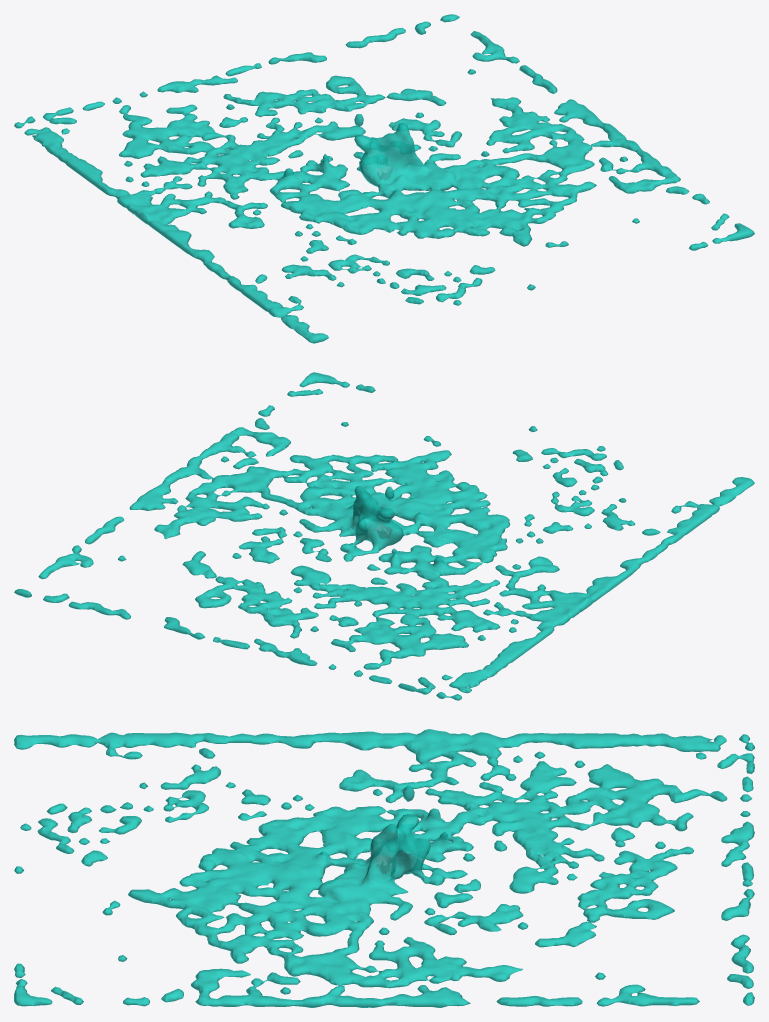
The picture shows the model from 3 angles, top to bottom: view 1: azimuth 30°, elevation 25°; view 2: azimuth 150°, elevation 25°; view 3: azimuth 270°, elevation 25°; orthographic projection. The views are drawn at different scales.
Parts seen in each view (by area): view 1: Liquid_Domain; view 2: Liquid_Domain; view 3: Liquid_Domain.
Boxes of the visible parts, bbox=[...] form: Liquid_Domain: bbox=[14, 14, 754, 343]; Liquid_Domain: bbox=[14, 372, 754, 700]; Liquid_Domain: bbox=[14, 729, 754, 1007].
Bounding box in the file's own units: 12.43 × 1.72 × 14.41.
